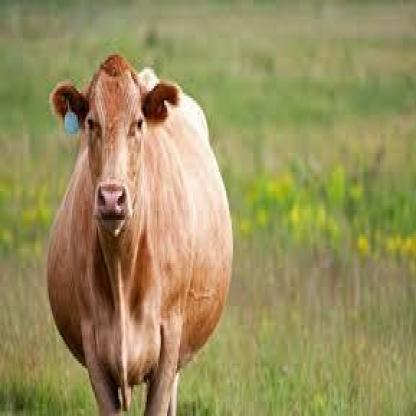cow: (45, 52, 233, 416)
